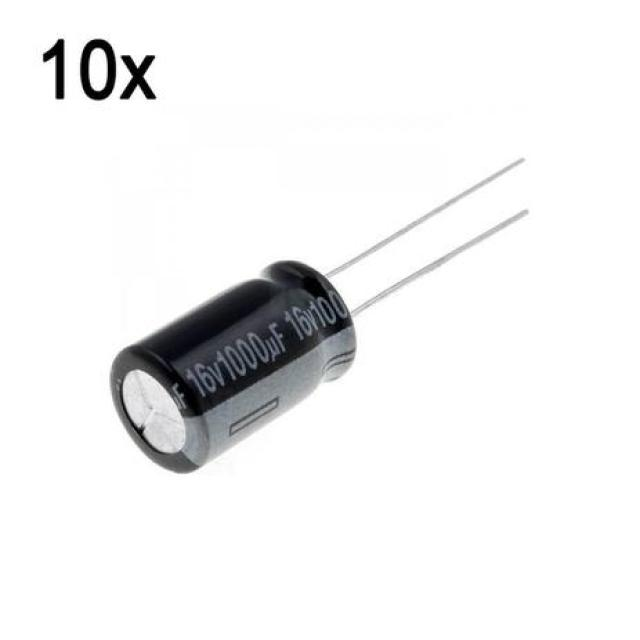Capacitor: (111, 156, 531, 477)
